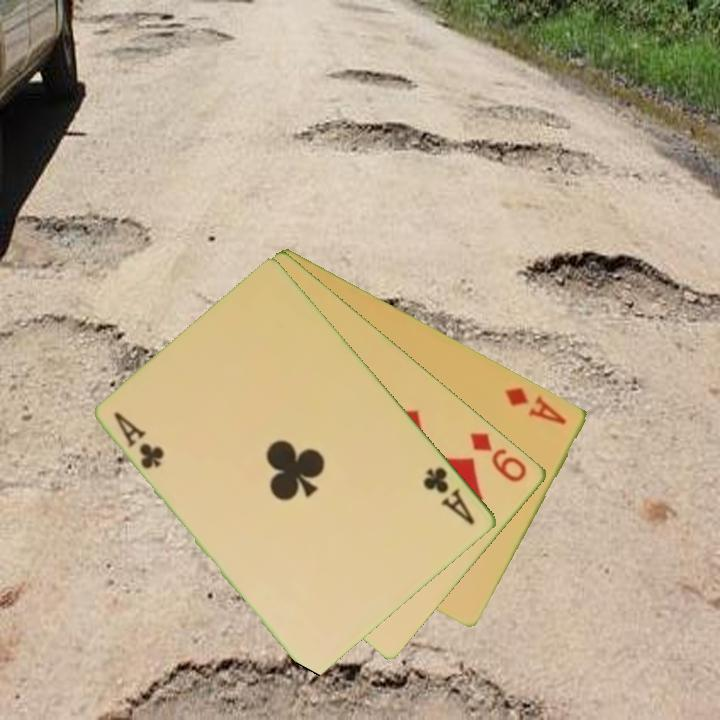9d: (467, 428, 531, 486)
Ac: (419, 463, 478, 528), (111, 408, 168, 473)
Ad: (501, 383, 570, 428)
